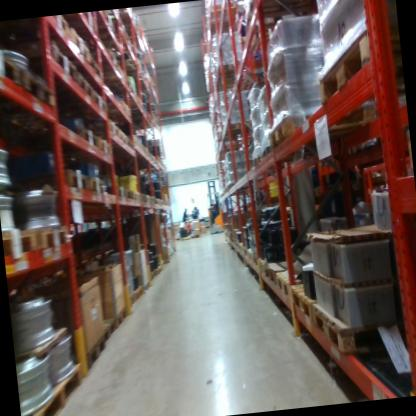forklift: (202, 177, 226, 234)
pallet: (314, 20, 406, 114), (310, 294, 409, 367), (266, 96, 387, 150), (16, 361, 87, 416), (18, 39, 81, 97), (0, 70, 60, 128), (291, 276, 338, 321), (28, 168, 92, 198), (259, 135, 322, 162), (52, 125, 100, 156), (245, 0, 320, 18), (0, 37, 23, 92), (3, 225, 36, 259), (275, 267, 310, 299), (37, 219, 70, 252), (76, 333, 109, 366), (207, 16, 254, 39), (204, 0, 250, 21), (69, 63, 95, 100), (67, 22, 91, 62), (93, 316, 121, 344), (86, 172, 111, 198), (261, 263, 287, 284), (116, 53, 142, 74), (96, 135, 115, 158), (115, 305, 130, 326), (249, 151, 263, 169)
